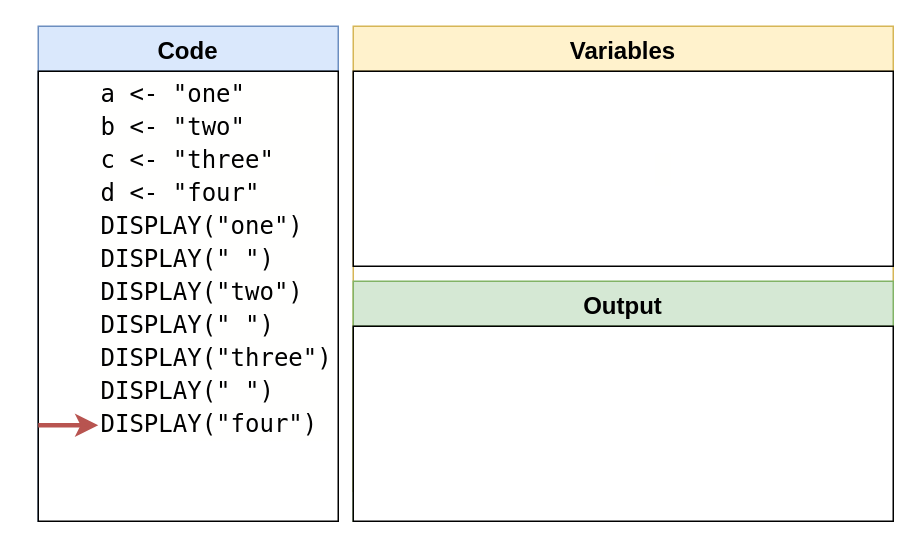
The diagram is 920 pixels wide and 548 high, and some of its shapes have lost their labels. Here are the shapes that lost their labels. From the top down, the centre of each, then its label:
(622,168): a = "one" b = "two" c = "three" d = "four"
(622,423): one two three four
